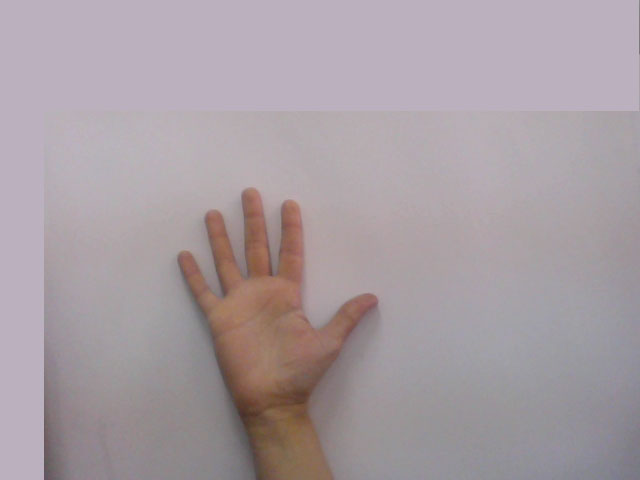hand: (163, 182, 387, 400)
